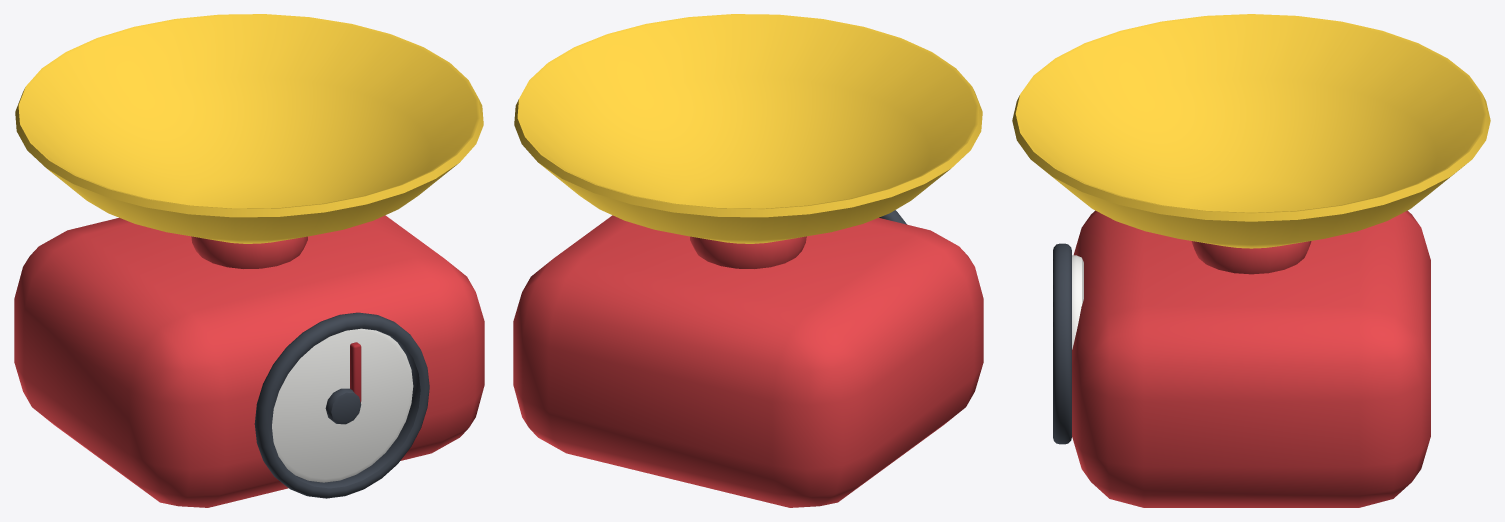
Rendered from balanca_cozinha_vermelha.glb.
3 views of the same model, side by side, from view 1: azimuth 30°, elevation 25°; view 2: azimuth 150°, elevation 25°; view 3: azimuth 270°, elevation 25° (orthographic).
Parts seen in each view (by area): view 1: balanca_cozinha_vermelha; view 2: balanca_cozinha_vermelha; view 3: balanca_cozinha_vermelha.
Part boxes in pixels (bbox=[...]): balanca_cozinha_vermelha: bbox=[14, 14, 484, 507]; balanca_cozinha_vermelha: bbox=[513, 14, 983, 507]; balanca_cozinha_vermelha: bbox=[1012, 14, 1490, 507].
Size of the model in its own units: 0.2 by 0.1532 by 0.2.
Materials: 1 (1 with a texture image).
